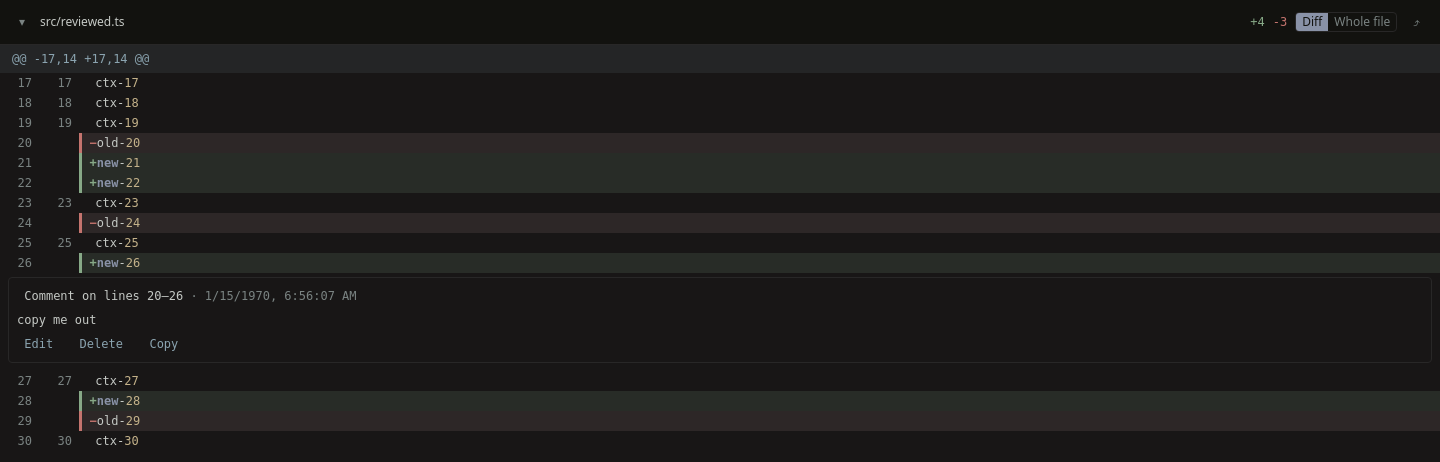
Test: SidebarDiffView inline comment threads › Copy writes the formatted markdown to the clipboard
Click the button with test id "diff-comment-copy": {"x": 164, "y": 344} x1=142 y1=334 x2=186 y2=354
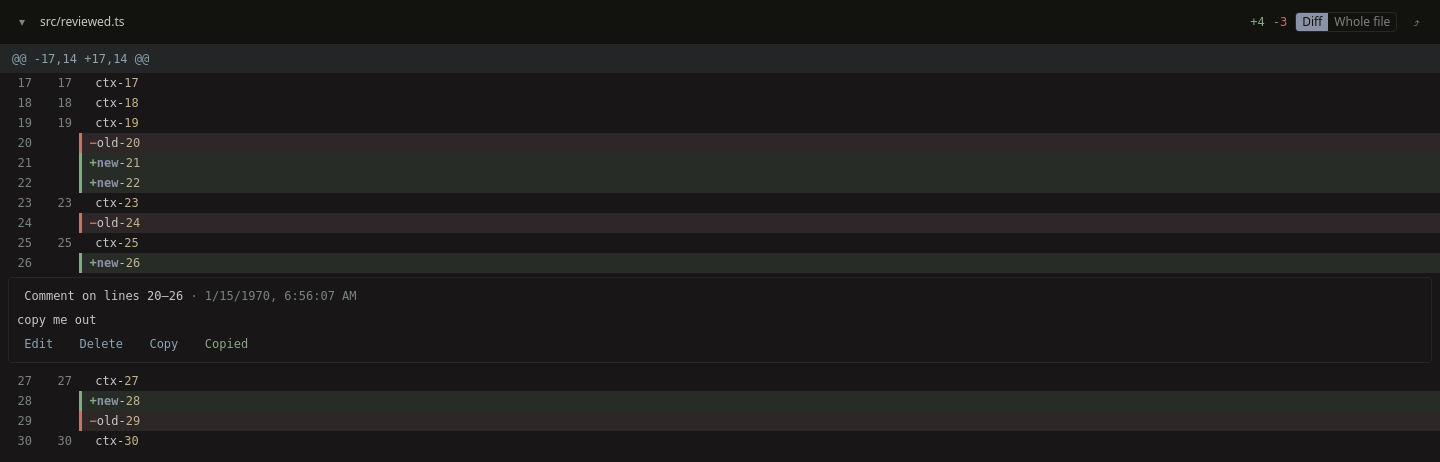
Expected: the text "Copied" is shown, x1=198 y1=334 x2=255 y2=354
